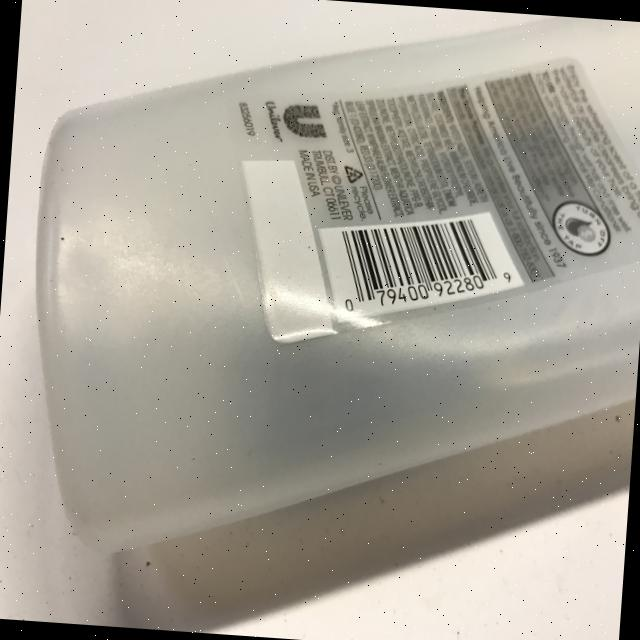plastic: (12, 0, 640, 592)
